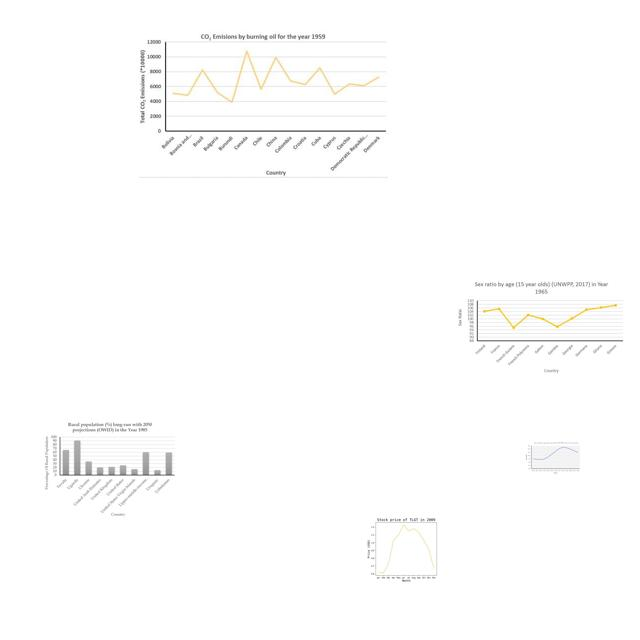Graph: (139, 31, 388, 178), (457, 278, 626, 375), (42, 421, 177, 519), (359, 514, 451, 583), (524, 441, 581, 475)
